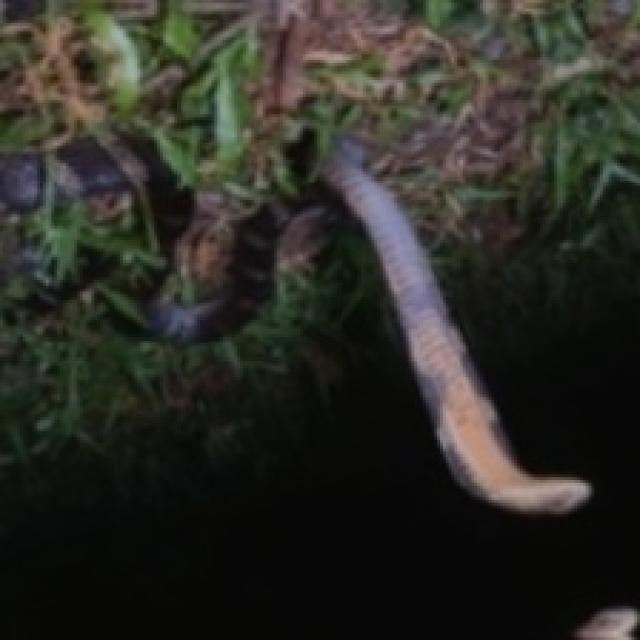king cobra: (326, 137, 589, 511), (329, 137, 589, 511)
